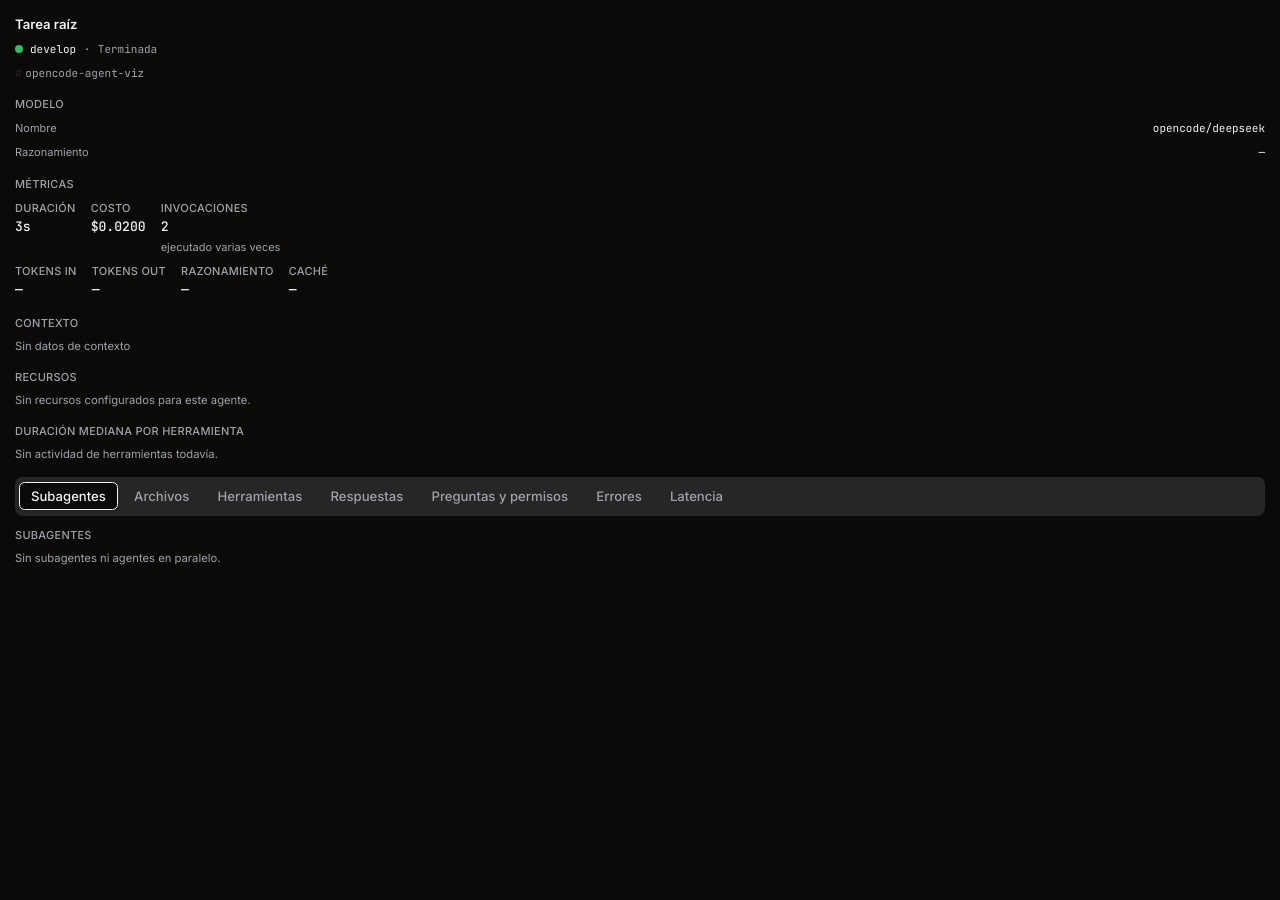
InspectorPanel › injects a live compaction context render into Respuestas (FR-014)
Click the tab "Respuestas". click: (367, 496)
box: [318,482,416,510]
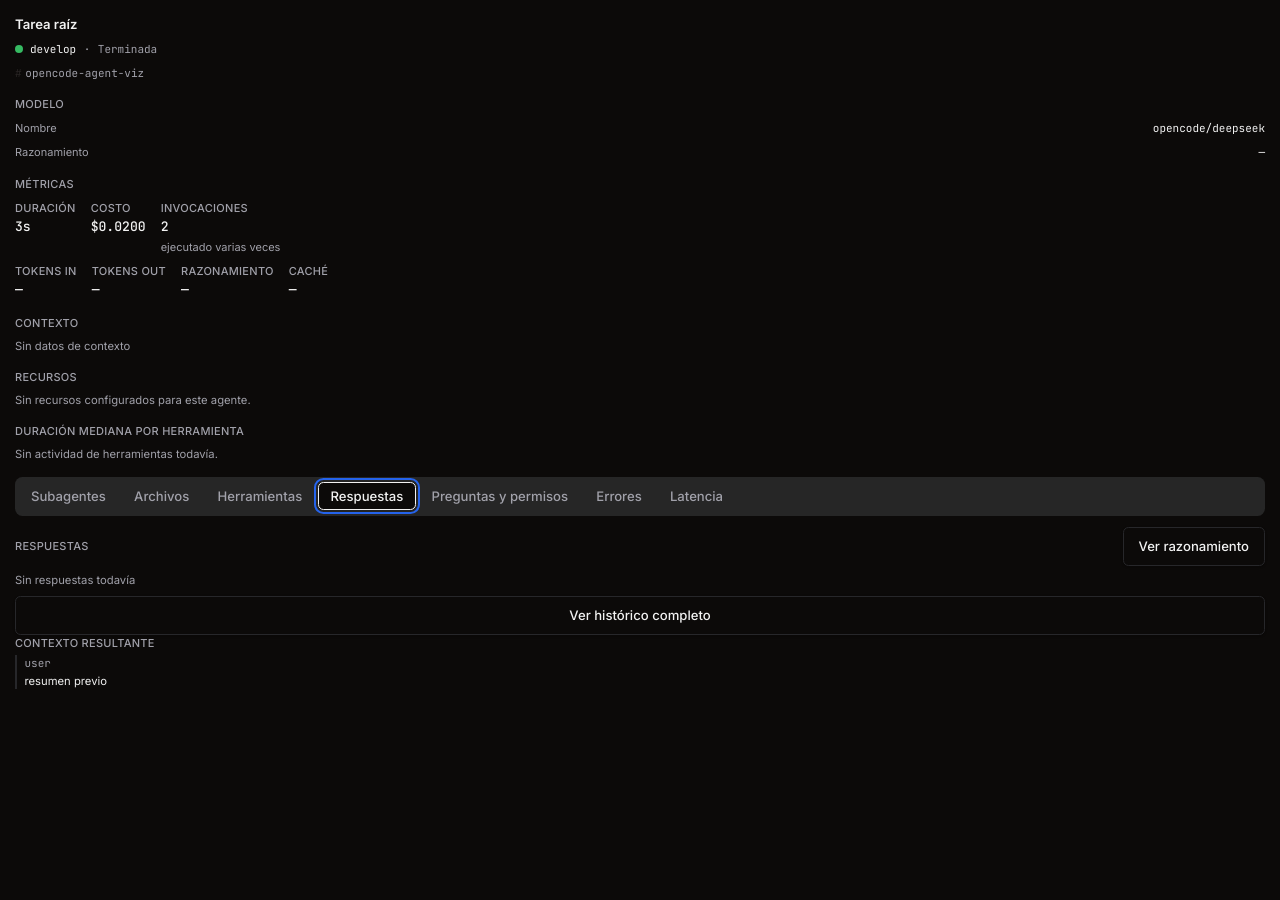
Expected: the element with test id "compaction-context" is shown, [15,635,1265,688]
Expected: the text "Contexto resultante" is shown, [15,636,155,650]
Expected: the text "resumen previo" is shown, [24,674,107,688]
